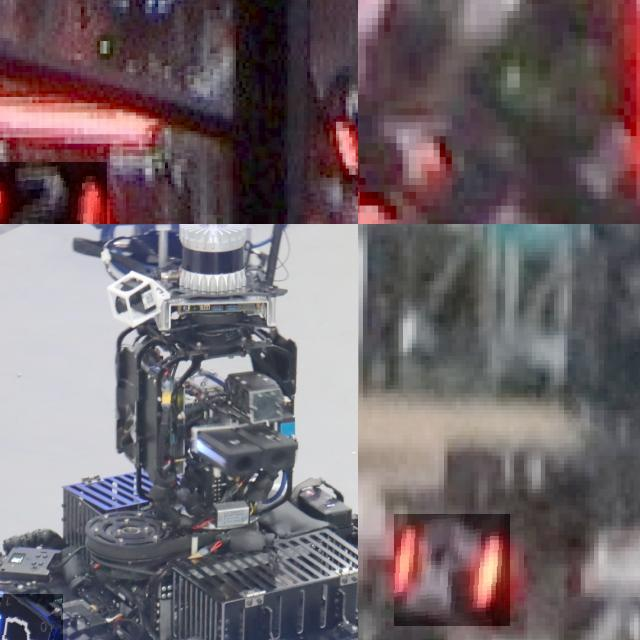Bs: (0, 594, 62, 640)
R2: (0, 162, 106, 224)
Rs: (394, 514, 510, 626)
